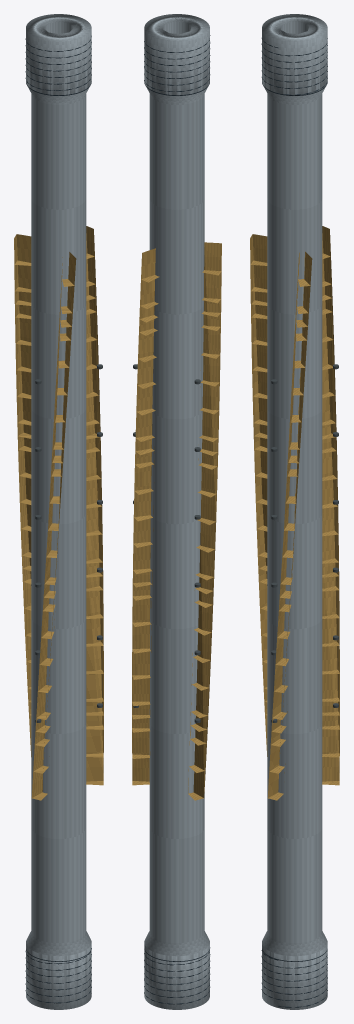
The model's file is reamer.glb.
3 renders of one model, left to right at view 1: azimuth 90°, elevation 25°; view 2: azimuth 150°, elevation 25°; view 3: azimuth 330°, elevation 25°, orthographic.
Visible parts, largest first — view 1: tool-housing (×3), roller-cutters (×4), uphole-connection (×3), downhole-connection (×3); view 2: tool-housing (×3), roller-cutters (×4), downhole-connection (×3), uphole-connection (×3); view 3: tool-housing (×3), roller-cutters (×4), uphole-connection (×3), downhole-connection (×3).
Part boxes in pixels (x1,y1,x2,y2): tool-housing (×3): (26,14,91,1009); roller-cutters (×4): (14,226,103,800); uphole-connection (×3): (25,29,91,95); downhole-connection (×3): (25,944,91,1009); tool-housing (×3): (144,14,209,1009); roller-cutters (×4): (132,242,221,800); downhole-connection (×3): (144,944,210,1009); uphole-connection (×3): (144,29,210,95); tool-housing (×3): (262,14,327,1009); roller-cutters (×4): (250,226,339,800); uphole-connection (×3): (261,29,327,95); downhole-connection (×3): (261,943,327,1009).
Size of the model in its own units: 0.1461 by 1.8 by 0.1515.
4 materials, 4 textured.
